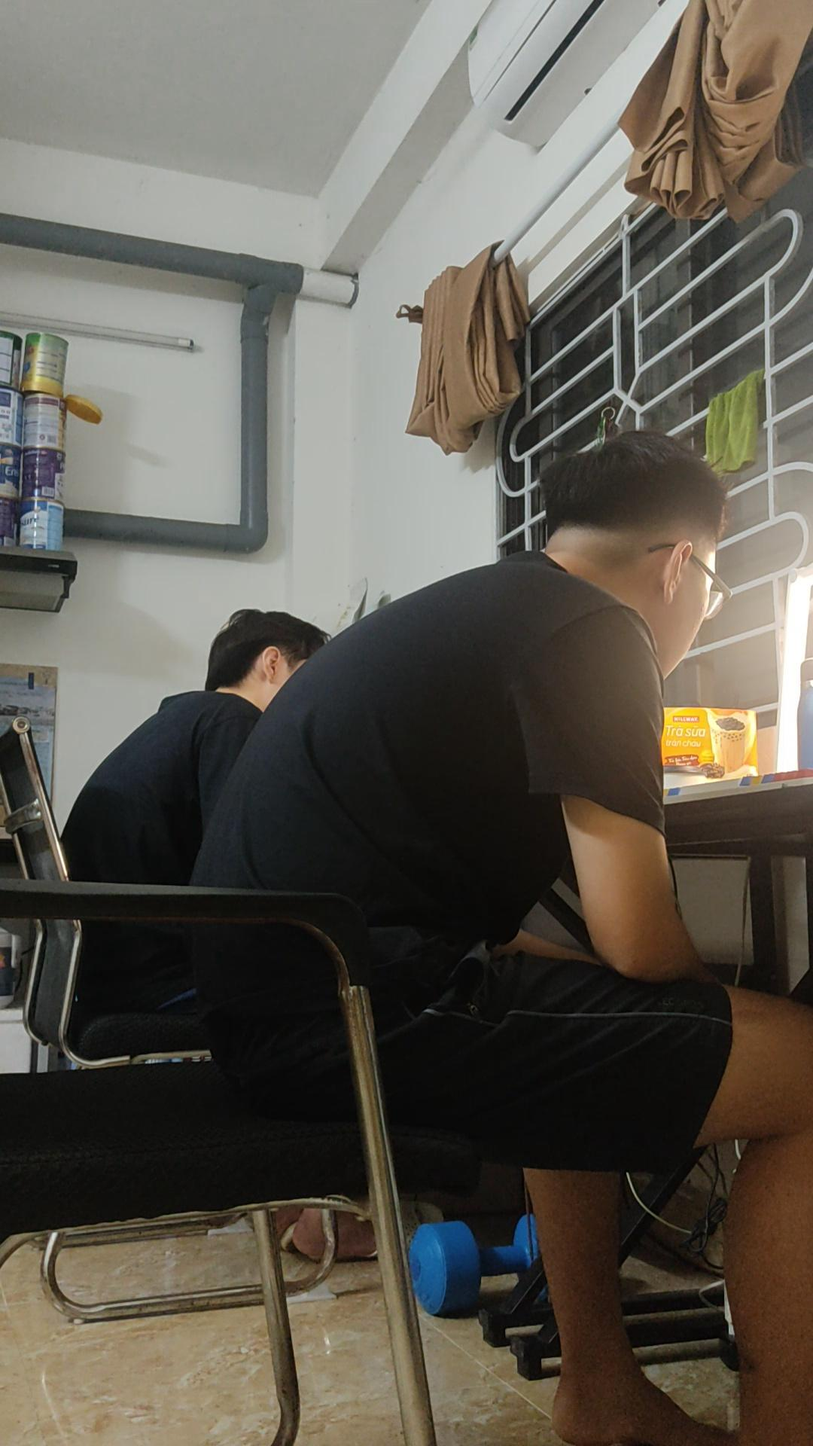BadPosture: (220, 440, 807, 1445)
